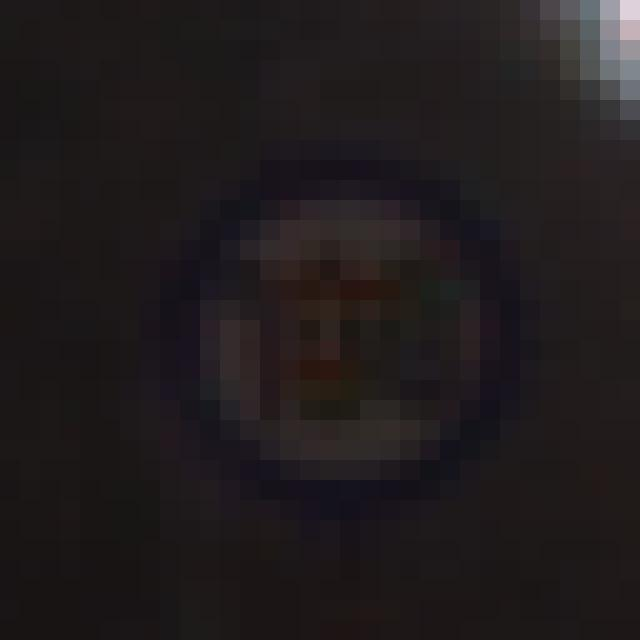SPEED LIMIT 100: (174, 168, 518, 498)
